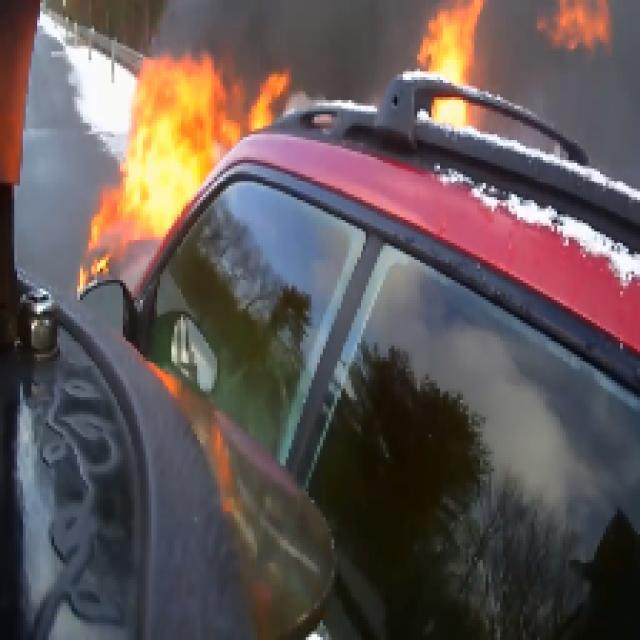Fire: (114, 62, 223, 252), (424, 0, 474, 126)
Smoke: (162, 0, 411, 51), (504, 57, 640, 149)
